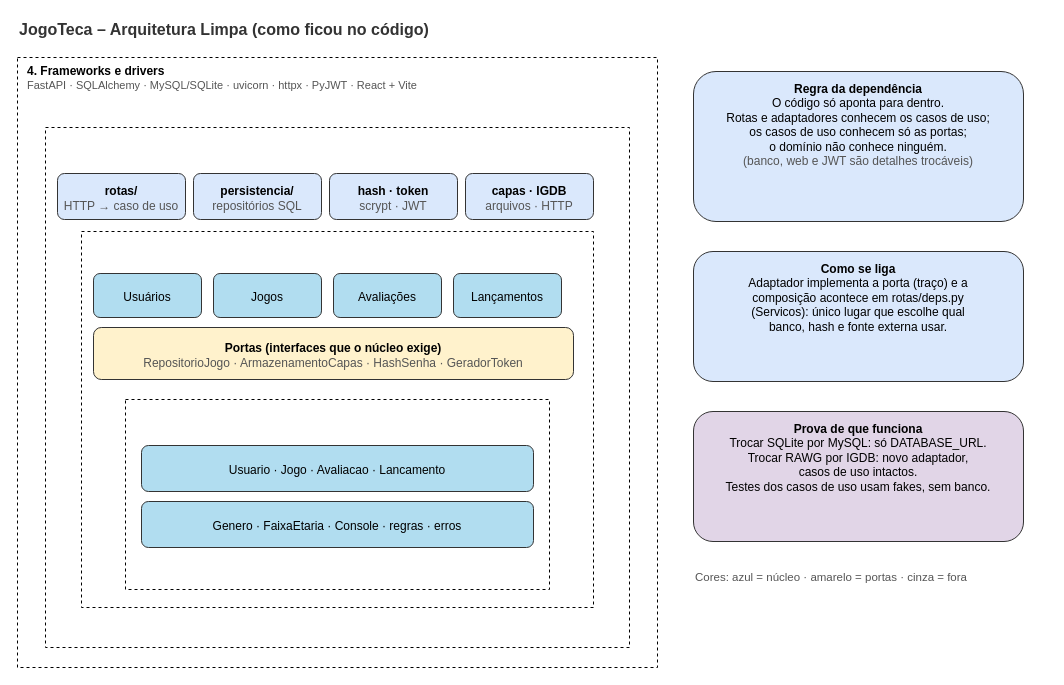
This 1064x685 diagram has some shape labels left out. The box of each missing label's shape, as (x1, y1, x2, y2) in pixels:
1. Entidades pasta dominio/ (regras que nunca mudam): (124, 398, 550, 590)
2. Casos de uso pastas casos_de_uso/ e portas/: (80, 230, 594, 608)
3. Adaptadores de interface pastas rotas/ e adaptadores/: (44, 126, 630, 648)
